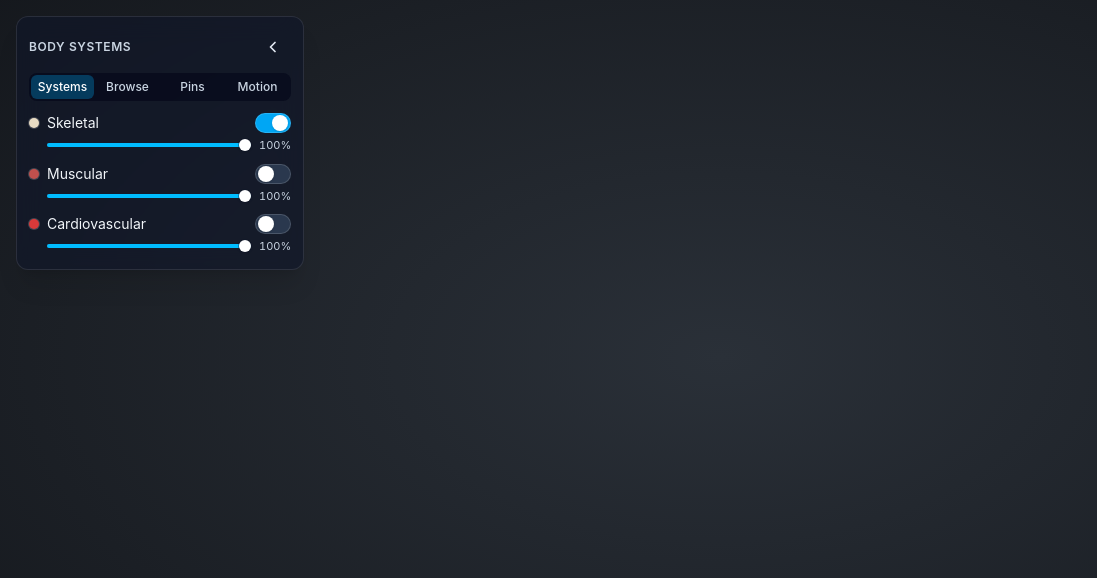
MotionPanel and LeftPanel Motion tab › lists demos lazily when opening the Motion tab
The image size is (1097, 578).
Click the tab "Motion": (258, 87) [226, 75, 289, 99]
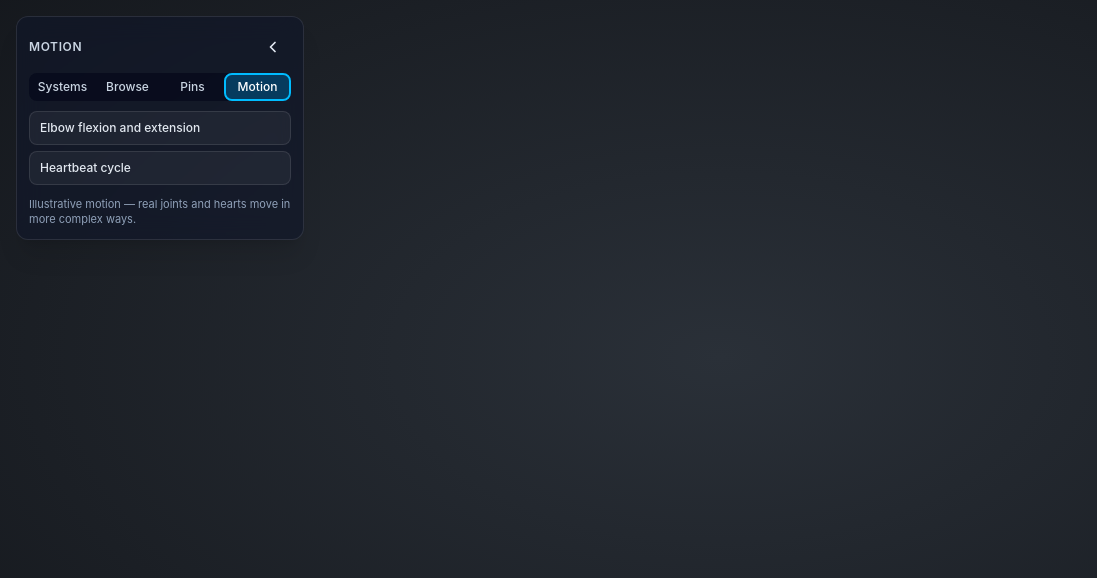
Expected: the button "Elbow flexion and extension" is shown, [29, 111, 291, 145]
Expected: the button "Heartbeat cycle" is shown, [29, 151, 291, 185]
